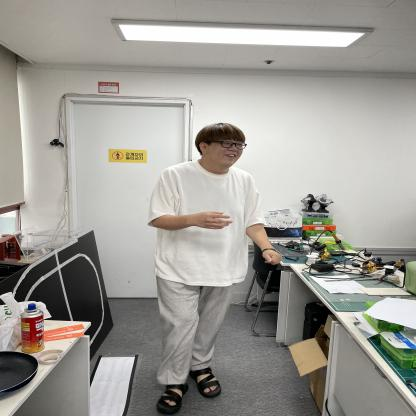normal: (150, 117, 279, 414)
